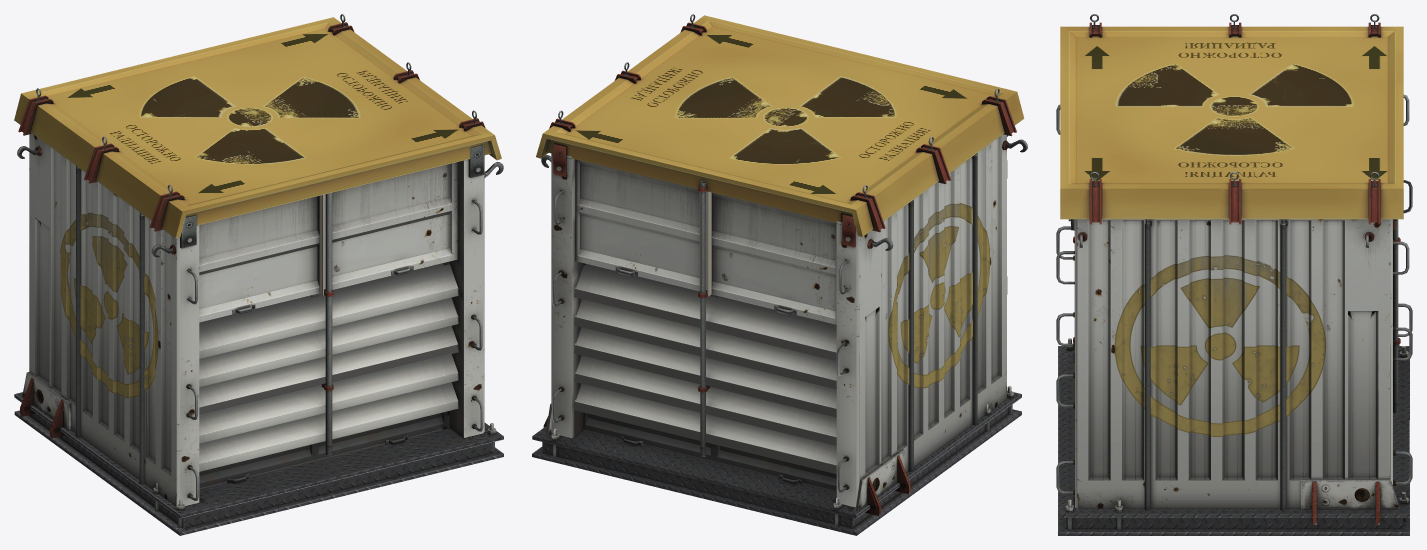
Rendered from nuclear_container.glb.
The picture shows the model from 3 angles, left to right: view 1: azimuth 30°, elevation 25°; view 2: azimuth 150°, elevation 25°; view 3: azimuth 270°, elevation 25°; orthographic projection. The views are drawn at different scales.
Parts seen in each view (by area): view 1: dmx/nuclear_container_b_model.dmx_0; view 2: dmx/nuclear_container_b_model.dmx_0; view 3: dmx/nuclear_container_b_model.dmx_0.
Part boxes in pixels (box(x1,y1,x2,y2)): dmx/nuclear_container_b_model.dmx_0: box(14, 14, 503, 535); dmx/nuclear_container_b_model.dmx_0: box(532, 14, 1027, 535); dmx/nuclear_container_b_model.dmx_0: box(1056, 14, 1412, 535).
Size of the model in its own units: 2.39 by 2.19 by 1.98.
Materials: 3 (3 with a texture image).
